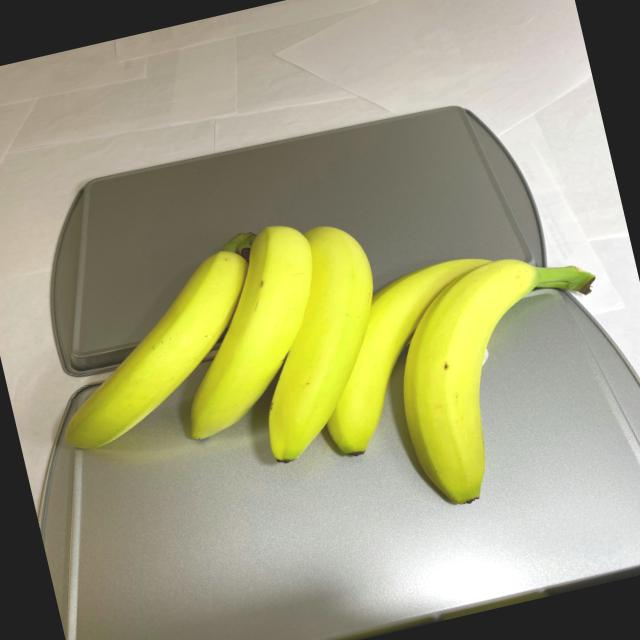banana: (26, 155, 634, 589)
